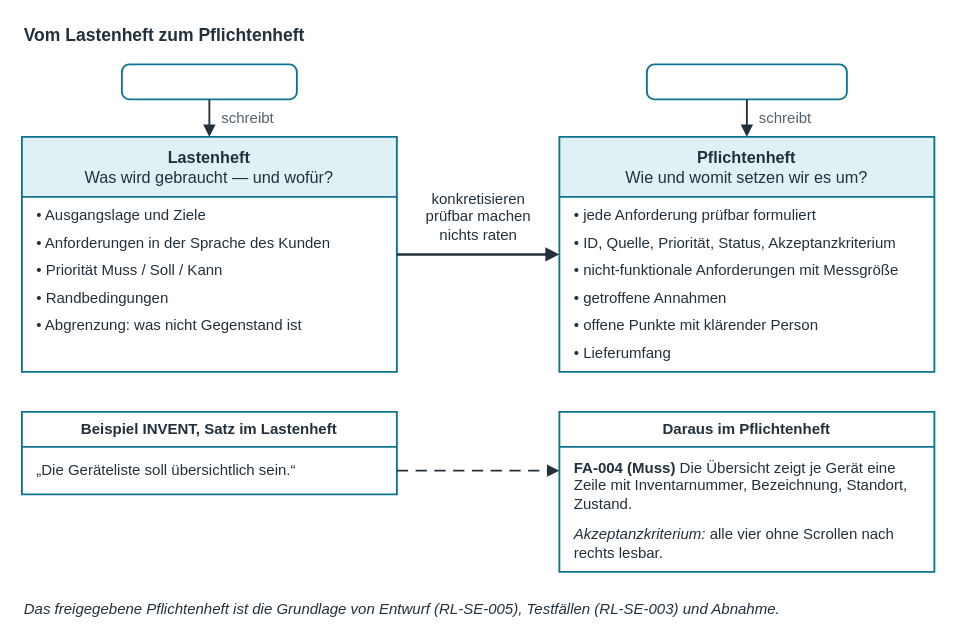
Image size: 958x643. Some labels were removed from this diagram. Here are the shapes that lost their labels. From the top down, the centre of each, then its label:
At (x=208, y=81): "Auftraggeber".
At (x=746, y=81): "Auftragnehmer (wir)".
